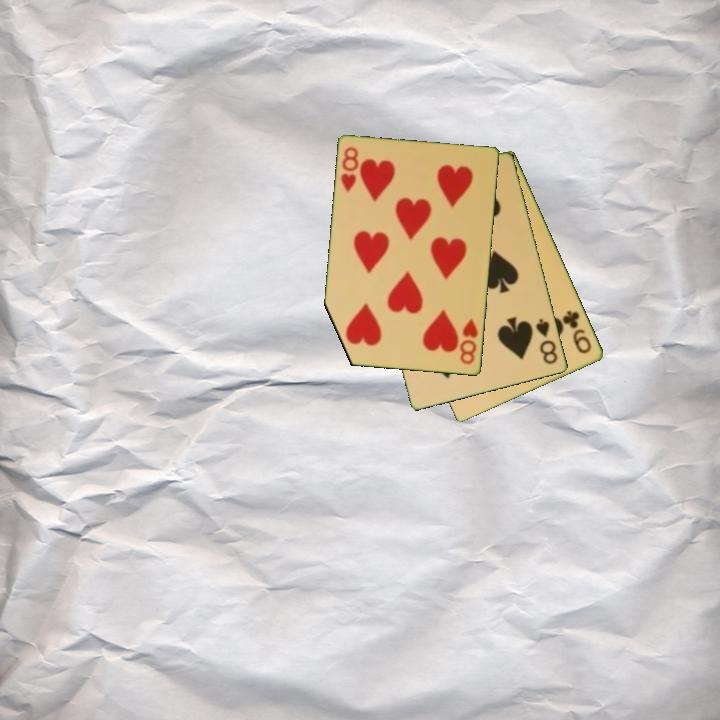8h: (337, 143, 362, 195), (457, 315, 481, 368)
8s: (533, 315, 561, 367)
9c: (560, 307, 595, 357)
